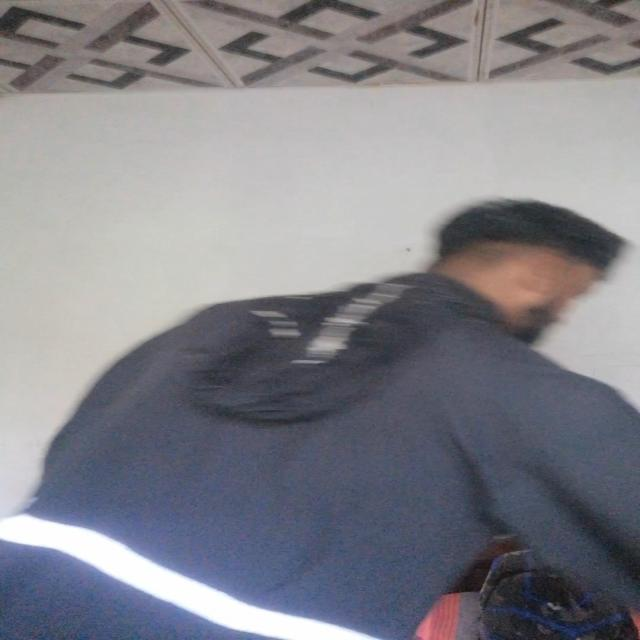Jacket_Wearer: (31, 275, 640, 640)
Person: (1, 172, 640, 640)
